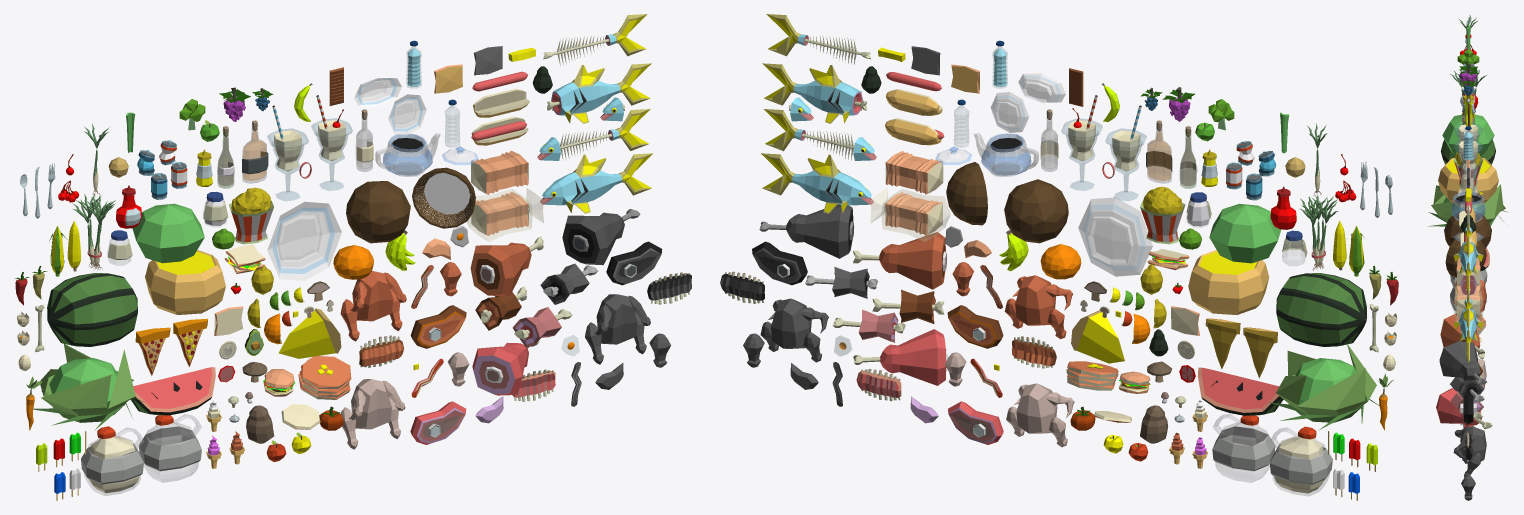
The model's file is Low poly food (1).glb.
3 renders of one model, left to right at view 1: azimuth 30°, elevation 25°; view 2: azimuth 150°, elevation 25°; view 3: azimuth 270°, elevation 25°, orthographic. The views are drawn at different scales.
Visible parts, largest first — view 1: Watermelon, Cabbage Ground, Plate, Cheesewheel, Milk, Empty Milk, Cabbage, Coconut, Fish, Coconut Half, Headless Fish, Watermelon Slice (+42 smaller); view 2: Watermelon, Cabbage Ground, Plate, Cheesewheel, Milk, Empty Milk, Cabbage, Coconut, Fish, Bagged Bread, Headless Fish, Large Cooked Drumstick (+40 smaller); view 3: Cheesewheel, Large Burnt Drumstick, Cabbage Ground, Cabbage, Burnt Chicken, Large Raw Drumstick, Coconut, Large Cooked Drumstick, Bagged Bread, Headless Fish, Fish, Teapot (+31 smaller).
Part boxes in pixels (box(x1,y1,x2,y2)): Watermelon: box(47, 273, 137, 346); Cabbage Ground: box(33, 344, 144, 430); Plate: box(267, 202, 341, 280); Cheesewheel: box(145, 250, 225, 314); Milk: box(81, 426, 143, 495); Empty Milk: box(139, 414, 201, 482); Cabbage: box(132, 203, 204, 263); Coconut: box(346, 181, 410, 243); Fish: box(540, 153, 652, 213); Coconut Half: box(412, 167, 475, 228); Headless Fish: box(547, 63, 651, 123); Watermelon Slice: box(130, 367, 215, 415); Watermelon: box(1276, 273, 1366, 346); Cabbage Ground: box(1268, 344, 1379, 430); Plate: box(1078, 197, 1152, 276); Cheesewheel: box(1188, 250, 1269, 314); Milk: box(1269, 426, 1332, 496); Empty Milk: box(1212, 414, 1275, 482); Cabbage: box(1209, 203, 1281, 263); Coconut: box(1004, 179, 1068, 243); Fish: box(761, 153, 873, 213); Bagged Bread: box(870, 188, 950, 241); Headless Fish: box(762, 63, 866, 123); Large Cooked Drumstick: box(853, 232, 946, 289); Cheesewheel: box(1438, 158, 1498, 203); Large Burnt Drumstick: box(1439, 341, 1486, 384); Cabbage Ground: box(1428, 184, 1507, 226); Cabbage: box(1442, 114, 1494, 155); Burnt Chicken: box(1453, 426, 1486, 477); Large Raw Drumstick: box(1436, 388, 1492, 429); Coconut: box(1444, 210, 1491, 247); Large Cooked Drumstick: box(1440, 314, 1484, 359); Bagged Bread: box(1454, 281, 1482, 321); Headless Fish: box(1453, 241, 1483, 296); Fish: box(1453, 309, 1483, 363); Teapot: box(1451, 192, 1485, 222).
Size of the model in its own units: 3.01 by 1.72 by 0.4276.
5 materials, 5 textured.
